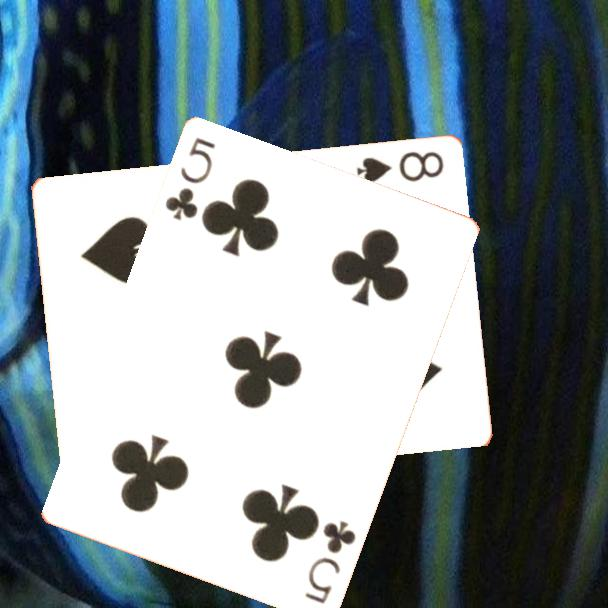c05: (301, 518, 359, 607), (162, 135, 219, 224)
s08: (352, 148, 447, 186)
